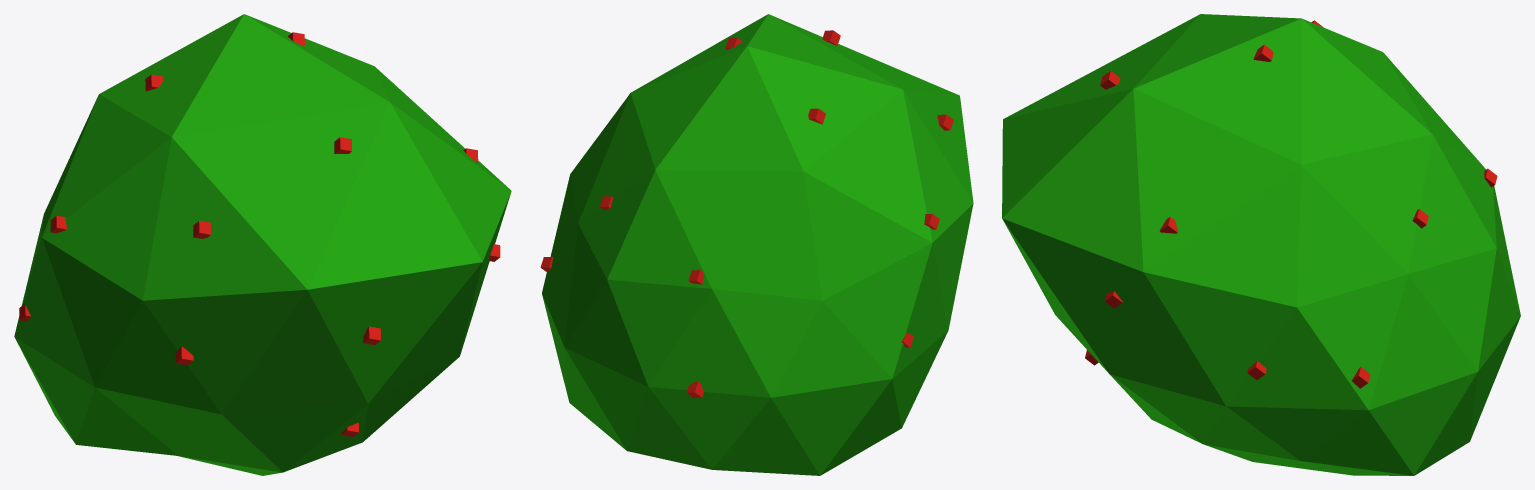
Rendered from Bush_6.fbx.
3 renders of one model, left to right at view 1: azimuth 30°, elevation 25°; view 2: azimuth 150°, elevation 25°; view 3: azimuth 270°, elevation 25°, orthographic. The views are drawn at different scales.
Parts seen in each view (by area): view 1: Bush6_mesh; view 2: Bush6_mesh; view 3: Bush6_mesh.
Boxes of the visible parts, bbox=[...] form: Bush6_mesh: bbox=[14, 14, 511, 475]; Bush6_mesh: bbox=[540, 14, 973, 475]; Bush6_mesh: bbox=[1002, 14, 1520, 475].
Size of the model in its own units: 172 by 176 by 192.
